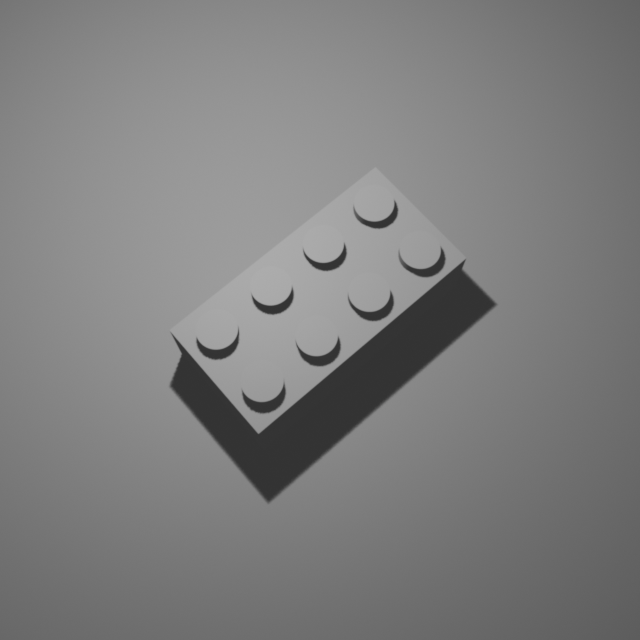lego_2x4: (167, 161, 469, 450)
